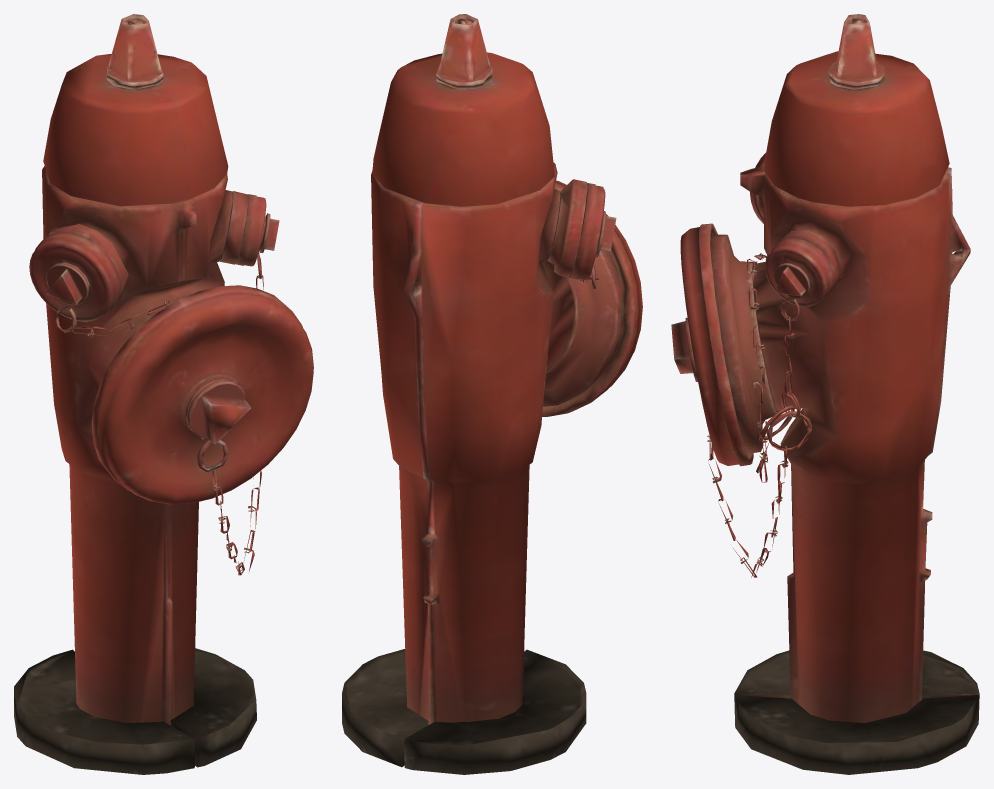
The model's file is prop-hydrant.glb.
The picture shows the model from 3 angles, left to right: view 1: azimuth 30°, elevation 25°; view 2: azimuth 150°, elevation 25°; view 3: azimuth 270°, elevation 25°; orthographic projection.
Visible parts, largest first — view 1: prop-hydrant (×5); view 2: prop-hydrant (×3); view 3: prop-hydrant (×4).
Part boxes in pixels (x1=…): prop-hydrant (×5): x1=14, y1=14, x2=313, y2=774; prop-hydrant (×3): x1=342, y1=14, x2=642, y2=774; prop-hydrant (×4): x1=671, y1=14, x2=979, y2=774.
Size of the model in its own units: 0.2746 by 0.7992 by 0.3173.
Materials: 1 (1 with a texture image).
